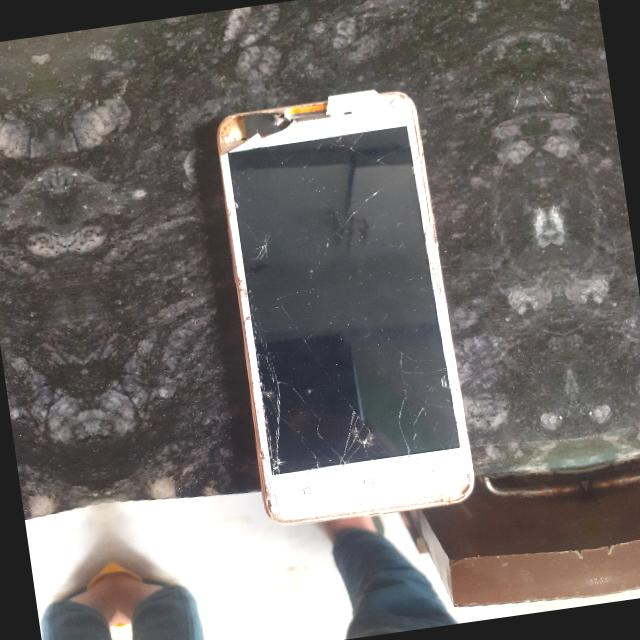phone_screen: (228, 126, 460, 475)
